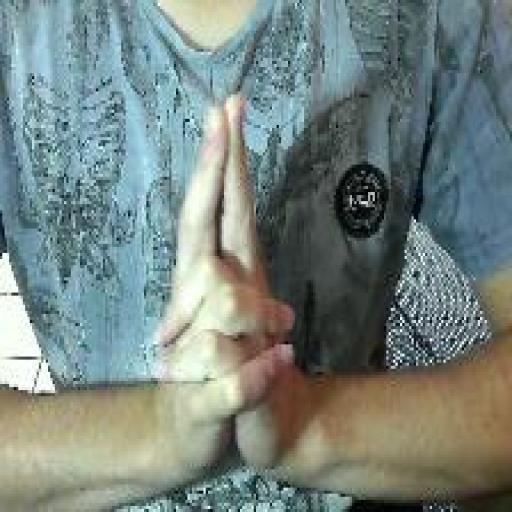Tora -tiger-: (148, 84, 300, 495)
